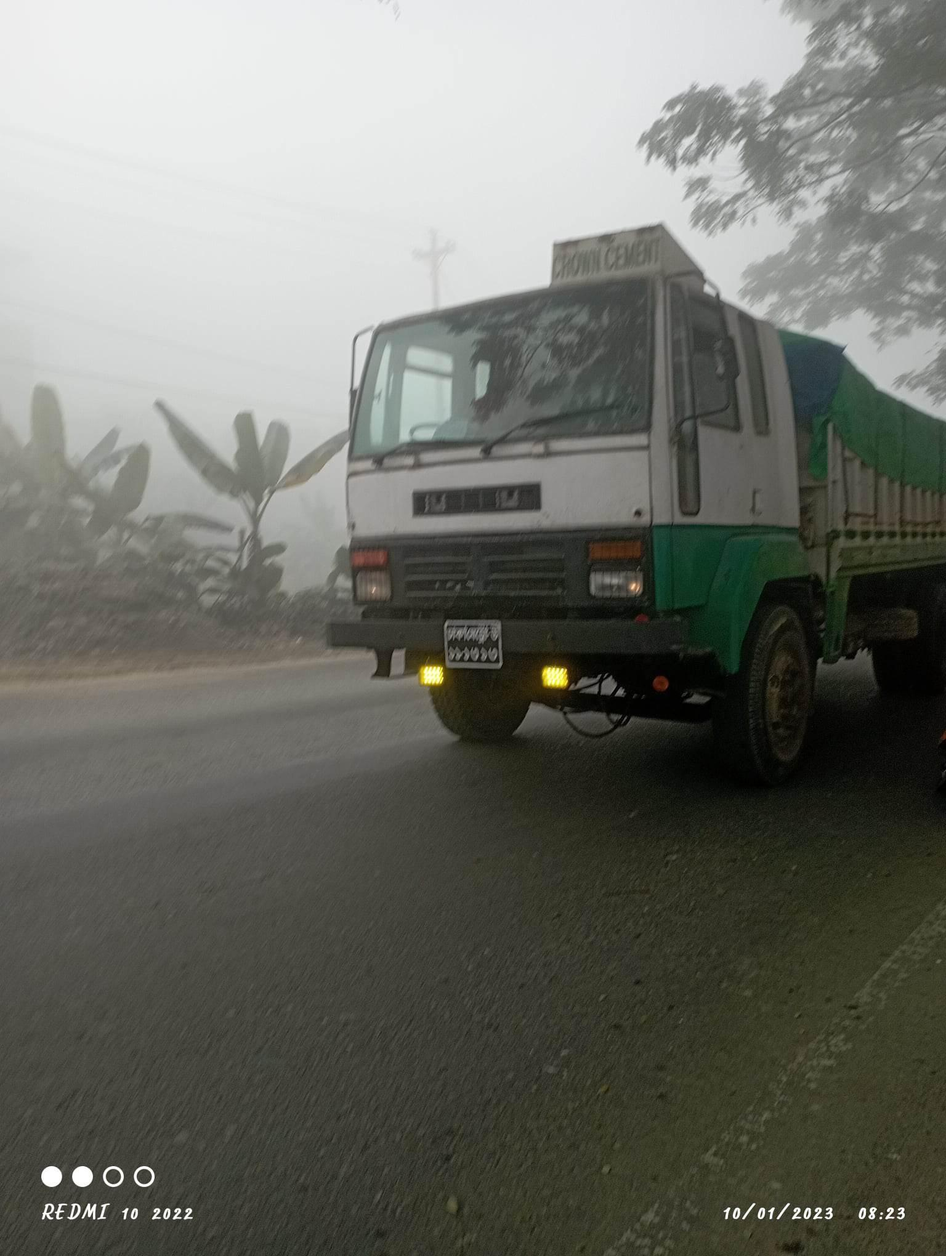Truck: (293, 217, 935, 801)
